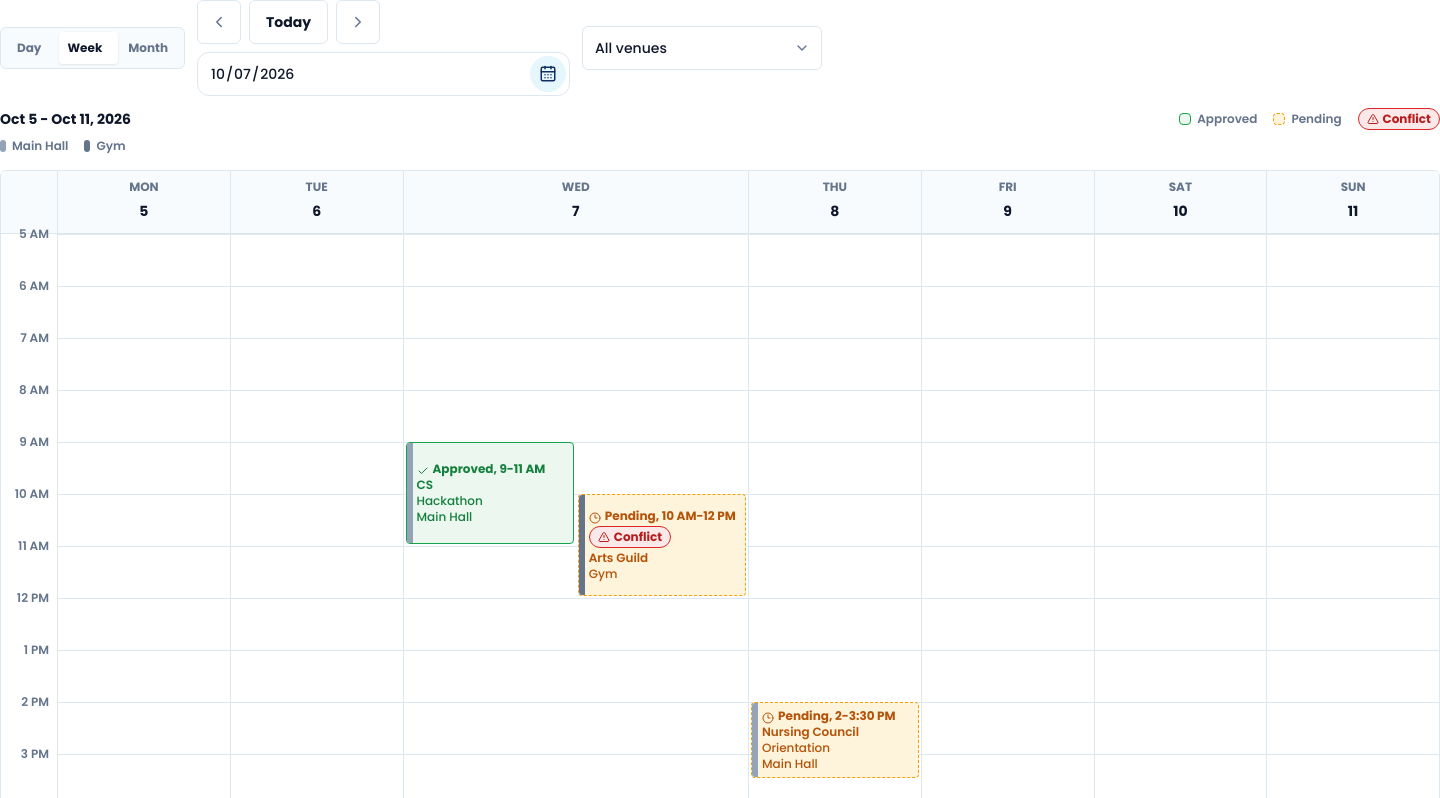
Test: VenueCalendar › shows the Conflict label in the booking details for a clashing request
The image size is (1440, 798).
Click the button with aria-label "Pending booking, Conflict, Arts Guild" at [662, 545], box [578,494,746,596]
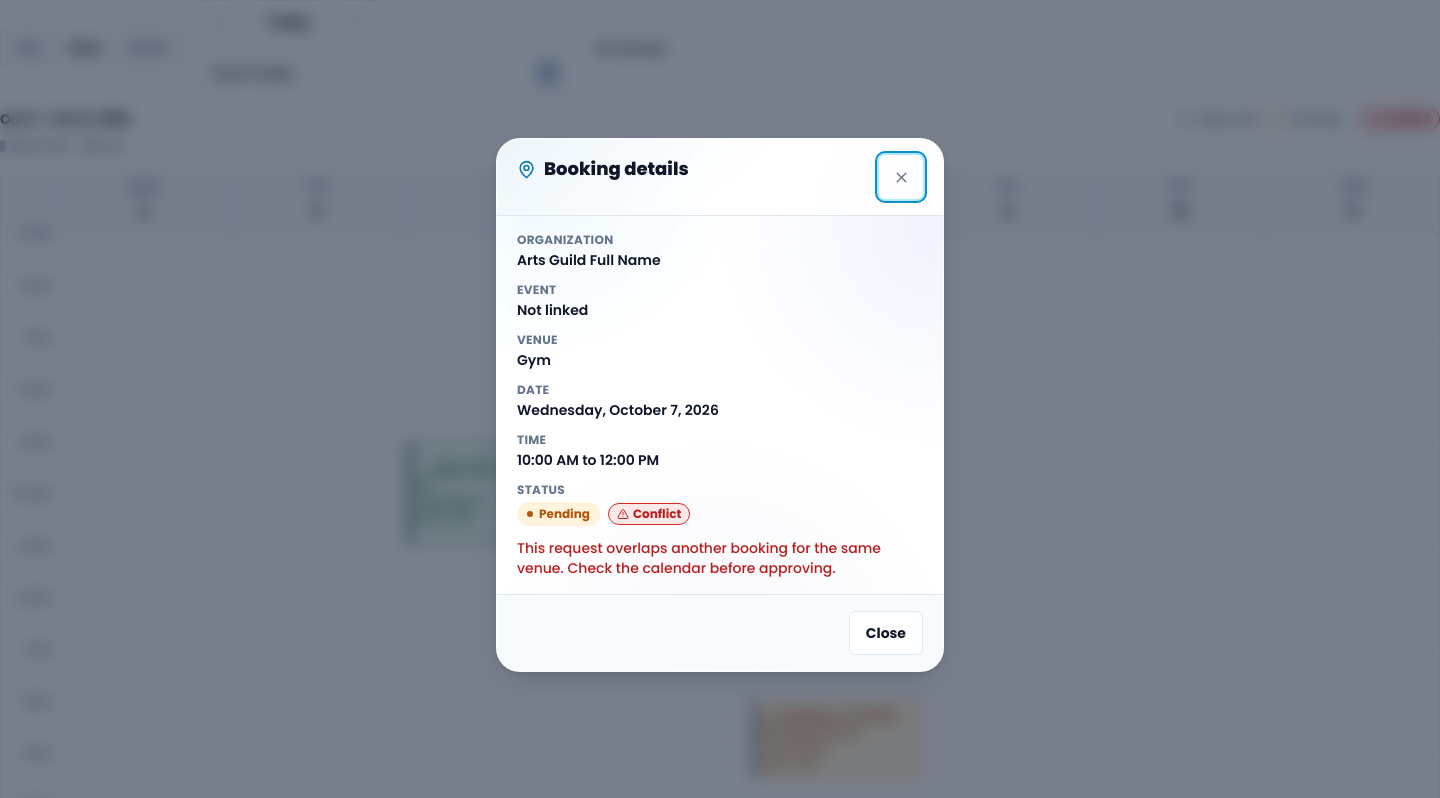
Now the text "Conflict" is shown, box [608,503,690,525]
Now the text "overlaps another booking for the same venue" is shown, box [517,538,881,578]
